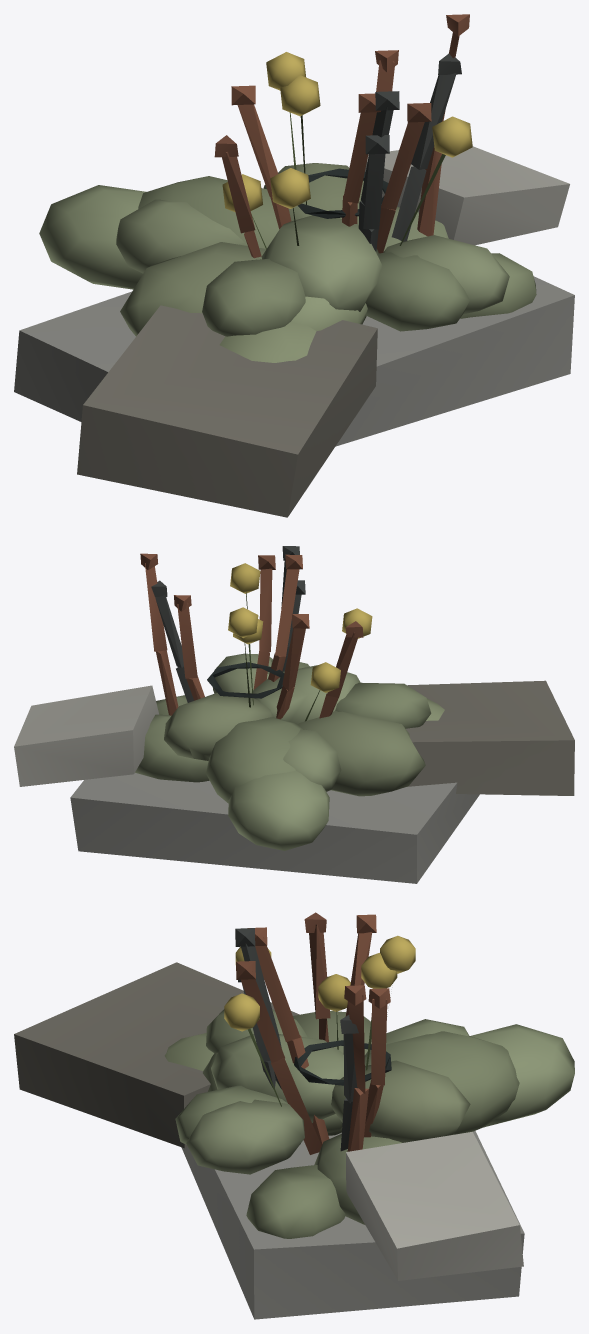
File: rebar_bloom_a_lod1.glb
3 renders of one model, top to bottom at view 1: azimuth 30°, elevation 25°; view 2: azimuth 150°, elevation 25°; view 3: azimuth 270°, elevation 25°, orthographic. The views are drawn at different scales.
Visible parts, largest first — view 1: Surface.001; view 2: Surface.001; view 3: Surface.001.
Boxes of the visible parts, <box> form: Surface.001: <box>14,14,574,517</box>; Surface.001: <box>14,546,574,883</box>; Surface.001: <box>14,912,574,1319</box>.
Bounding box in the file's own units: 4.16 × 2.16 × 3.59.
